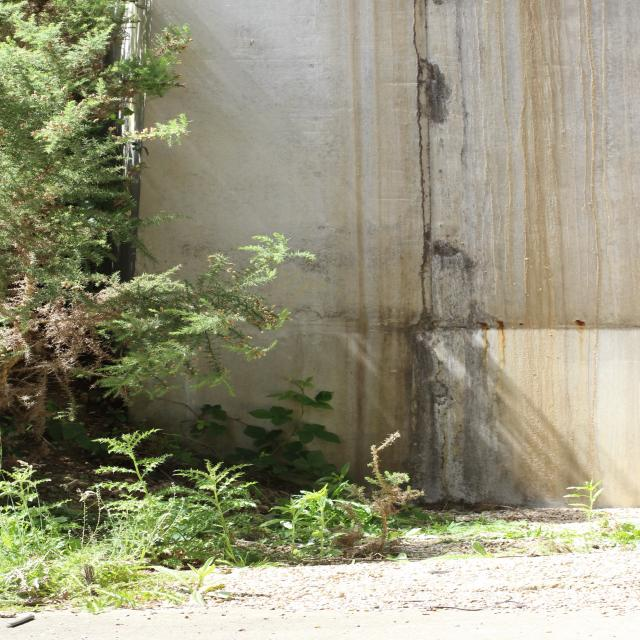corrosion: (302, 2, 640, 522)
